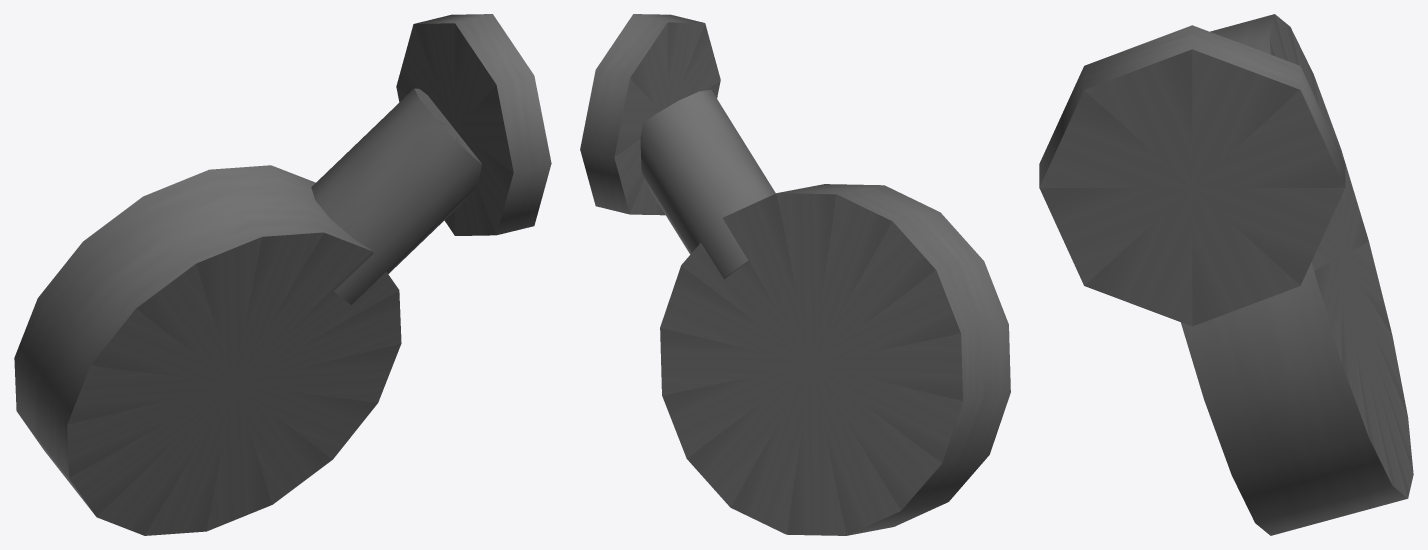
File: mastarmcurve_4x1_c2_east.obj
3 renders of one model, left to right at view 1: azimuth 30°, elevation 25°; view 2: azimuth 150°, elevation 25°; view 3: azimuth 270°, elevation 25°, orthographic. The views are drawn at different scales.
Visible parts, largest first — view 1: mastarm_4x1_c2_east; view 2: mastarm_4x1_c2_east; view 3: mastarm_4x1_c2_east.
Boxes of the visible parts, bbox=[...] form: mastarm_4x1_c2_east: bbox=[14, 14, 551, 535]; mastarm_4x1_c2_east: bbox=[580, 14, 1010, 535]; mastarm_4x1_c2_east: bbox=[1039, 14, 1413, 535].
Bounding box in the file's own units: 0.8281 × 0.9002 × 0.4893.
